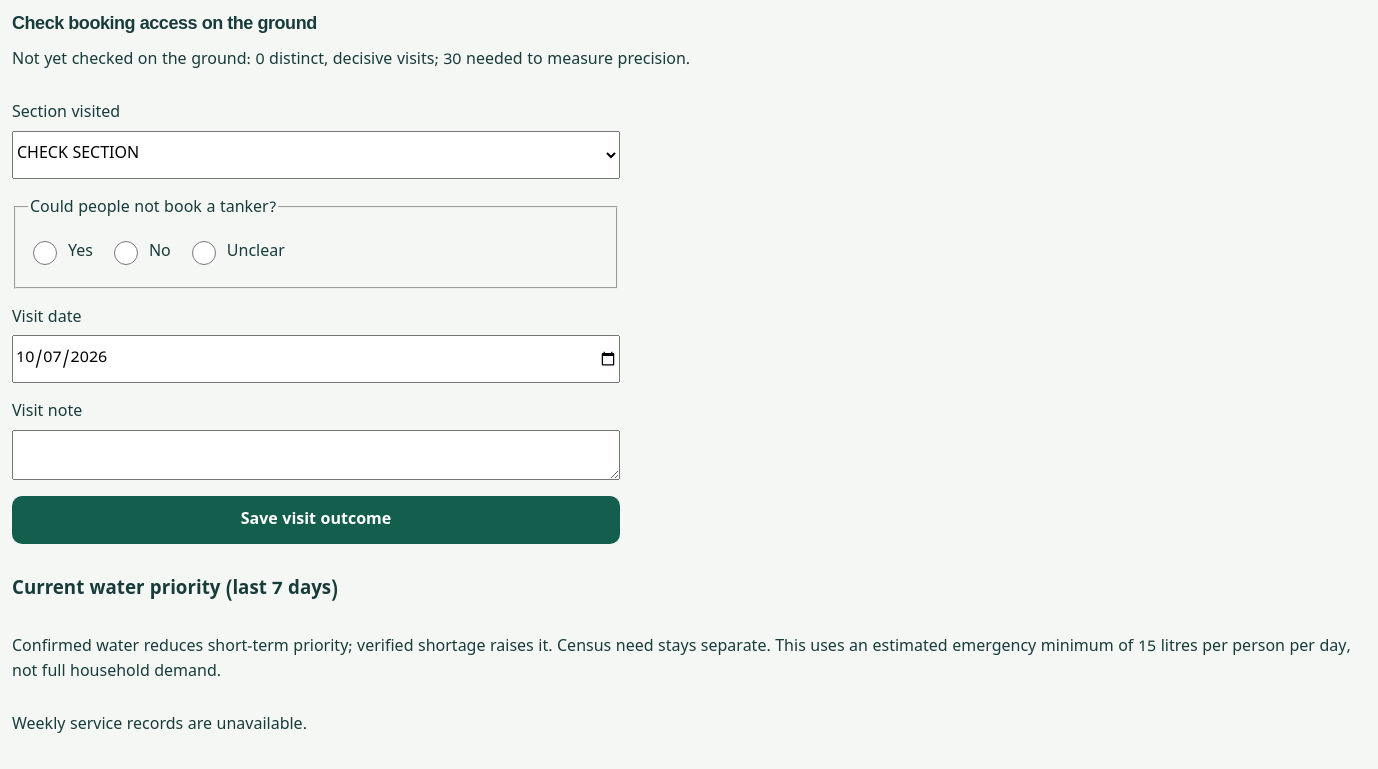
Scenario: records an authenticated visit with a date and note, then refreshes progress
Click the radio button labelled "Yes" at (45, 253), box x1=33 y1=229 x2=57 y2=277
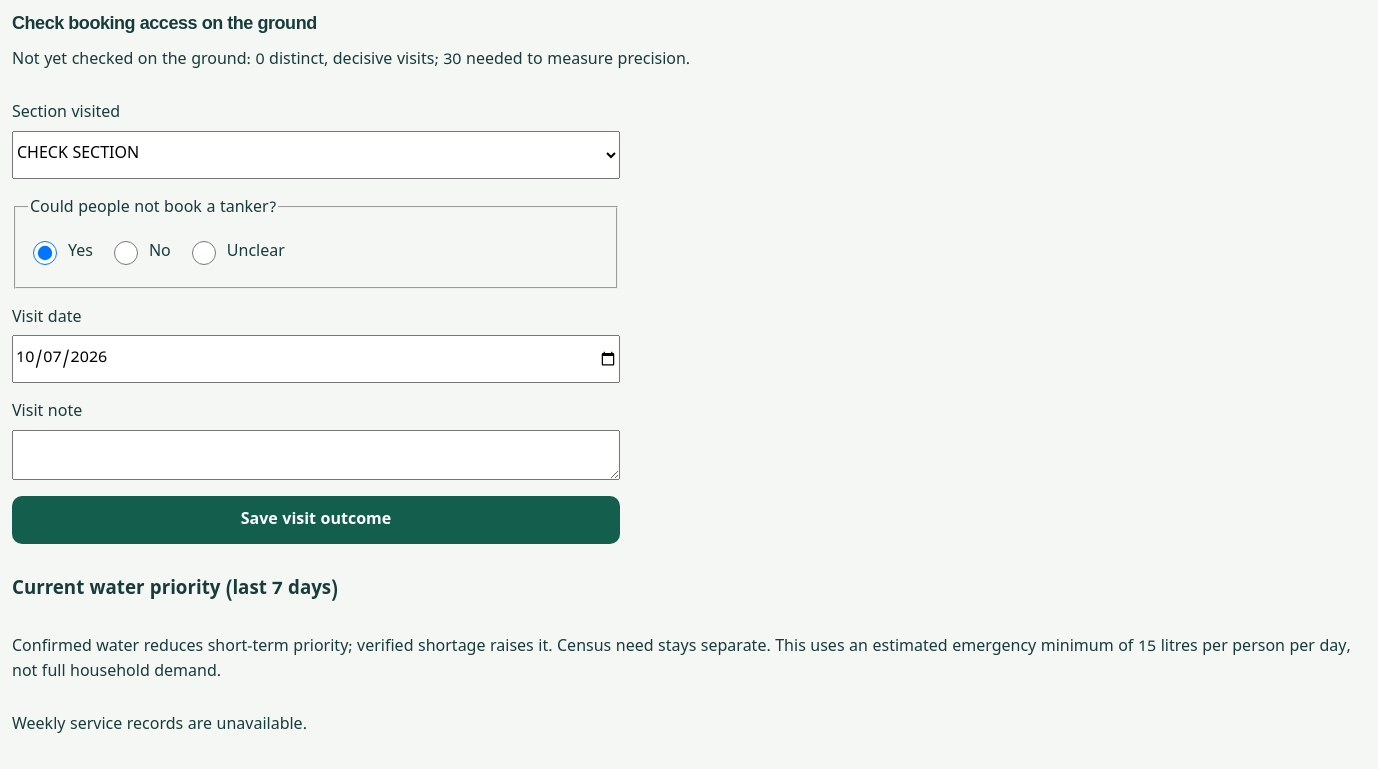
Type "2026-10-05" into the date field labelled "Visit date" at (316, 359), box x1=12 y1=335 x2=620 y2=383
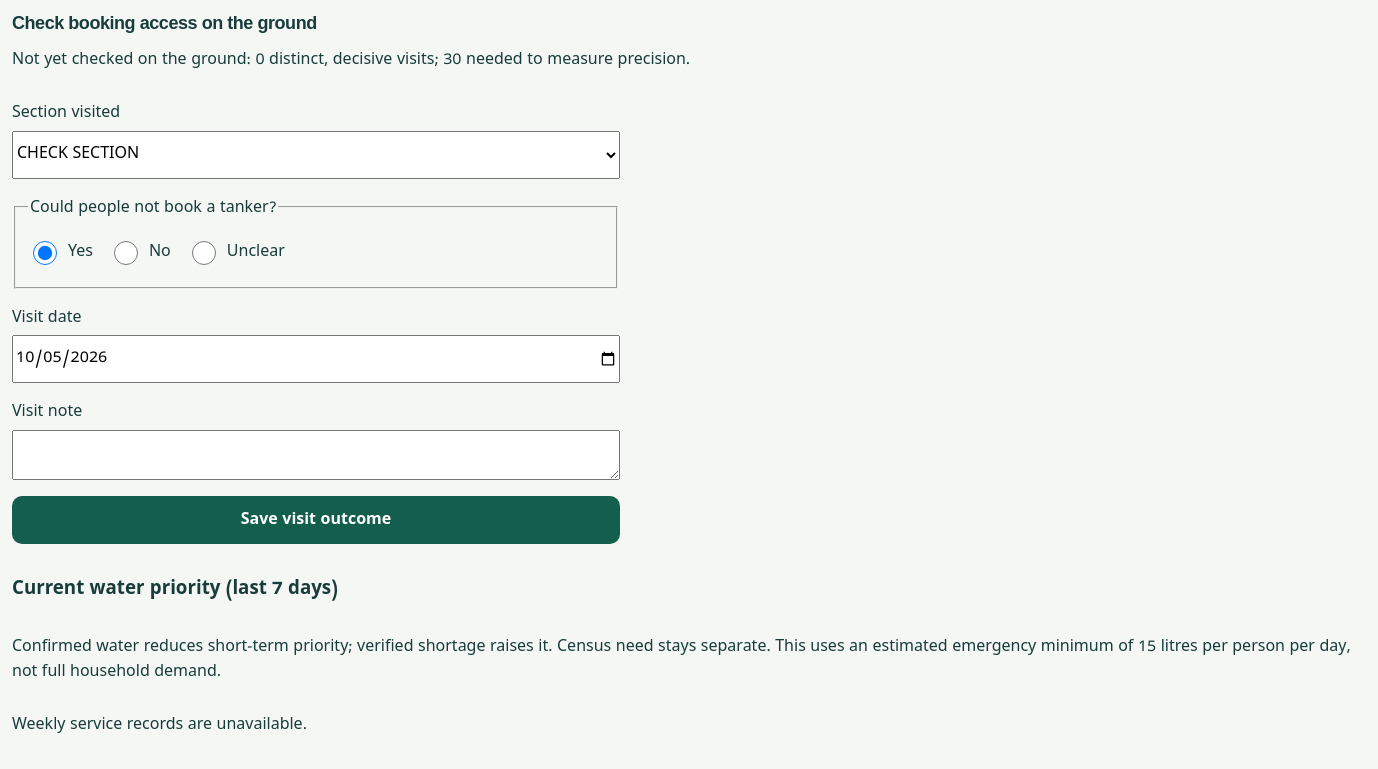
Type "No phone access" into the text box labelled "Visit note" at (316, 455), box x1=12 y1=430 x2=620 y2=480
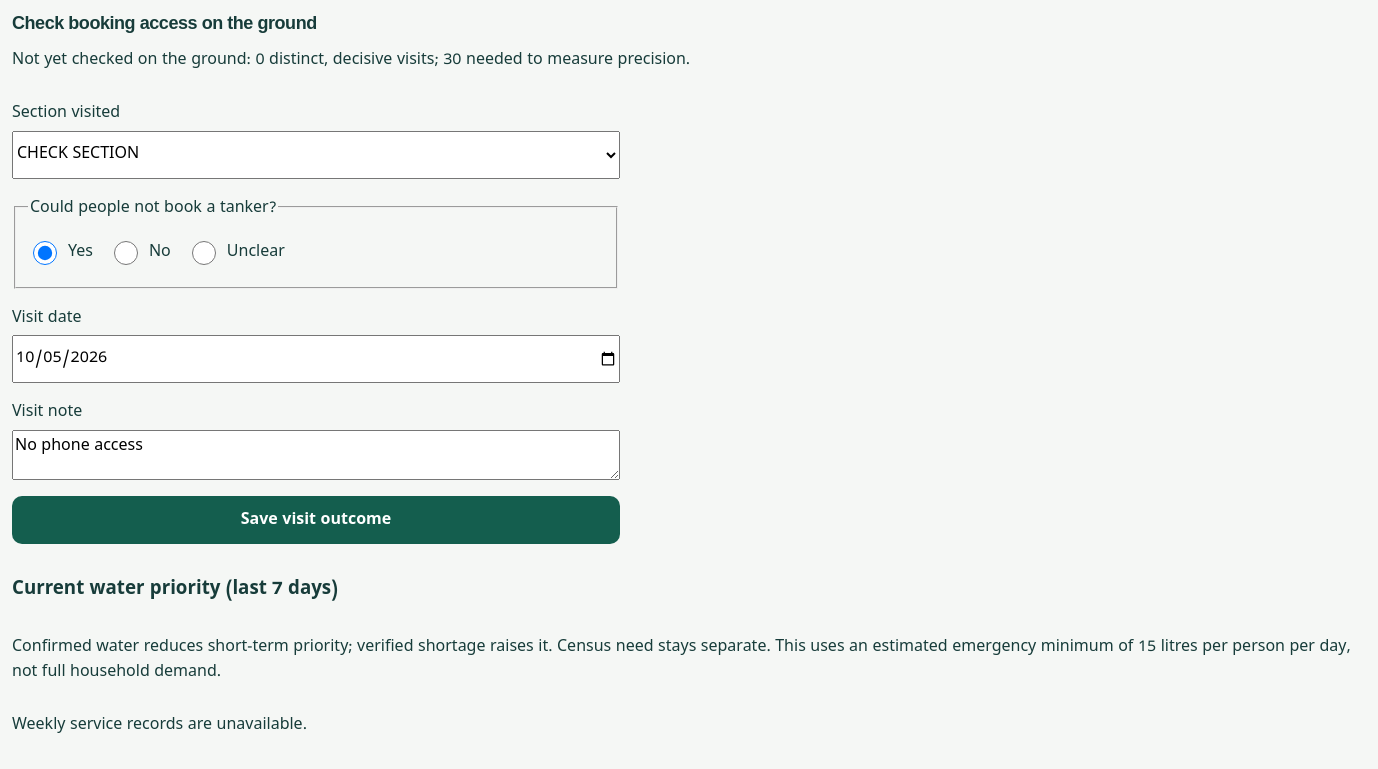
Click the button "Save visit outcome" at (316, 520), box x1=12 y1=496 x2=620 y2=544
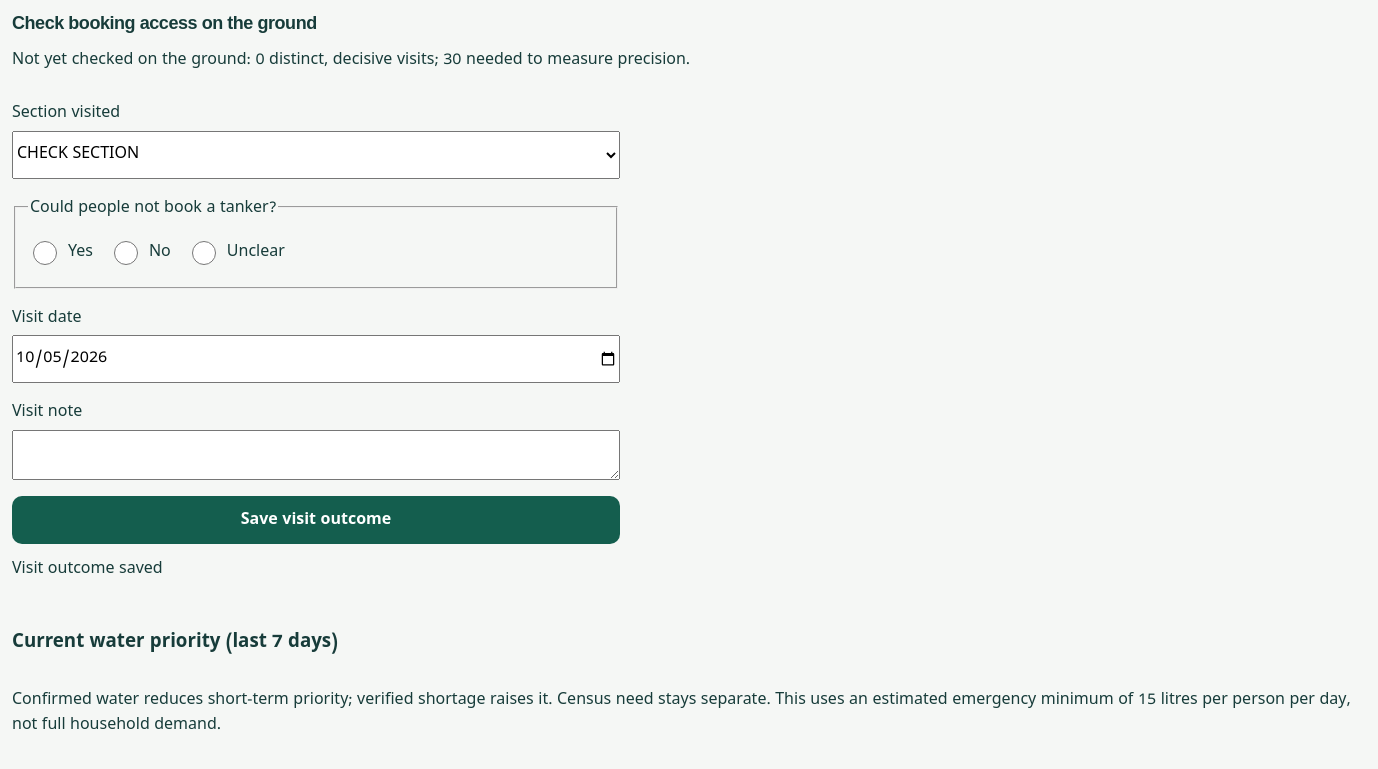
Expected: the text "Not yet checked on the ground" is shown, x1=12 y1=50 x2=690 y2=72
Now the text "Visit outcome saved" is shown, box x1=12 y1=559 x2=163 y2=581
